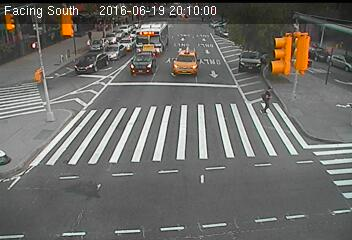neg: (234, 137, 272, 188), (27, 69, 63, 118), (186, 175, 220, 221), (281, 27, 312, 68), (234, 36, 263, 76), (125, 175, 153, 212), (174, 56, 201, 92), (306, 141, 331, 174), (146, 107, 170, 139), (87, 107, 111, 139), (298, 86, 320, 116), (35, 131, 57, 160), (137, 39, 157, 67), (67, 173, 86, 199)
pos: (260, 83, 283, 114)
